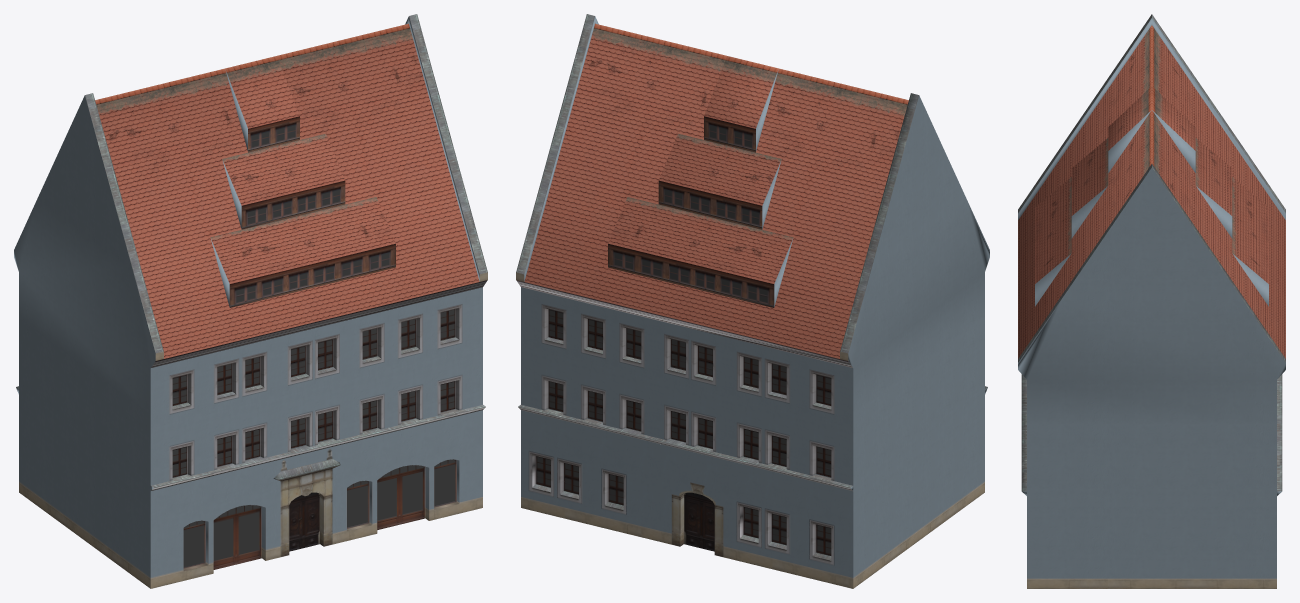
3 renders of one model, left to right at view 1: azimuth 30°, elevation 25°; view 2: azimuth 150°, elevation 25°; view 3: azimuth 270°, elevation 25°, orthographic. The views are drawn at different scales.
Visible parts, largest first — view 1: SketchUp.004_Material_0; view 2: SketchUp.004_Material_0; view 3: SketchUp.004_Material_0.
Boxes of the visible parts, box(x1,y1,x2,y2) form: SketchUp.004_Material_0: box(14, 14, 487, 588); SketchUp.004_Material_0: box(516, 14, 989, 588); SketchUp.004_Material_0: box(1018, 14, 1285, 588).
Bounding box in the file's own units: 1600 × 2050 × 1180.
1 material, 1 textured.
